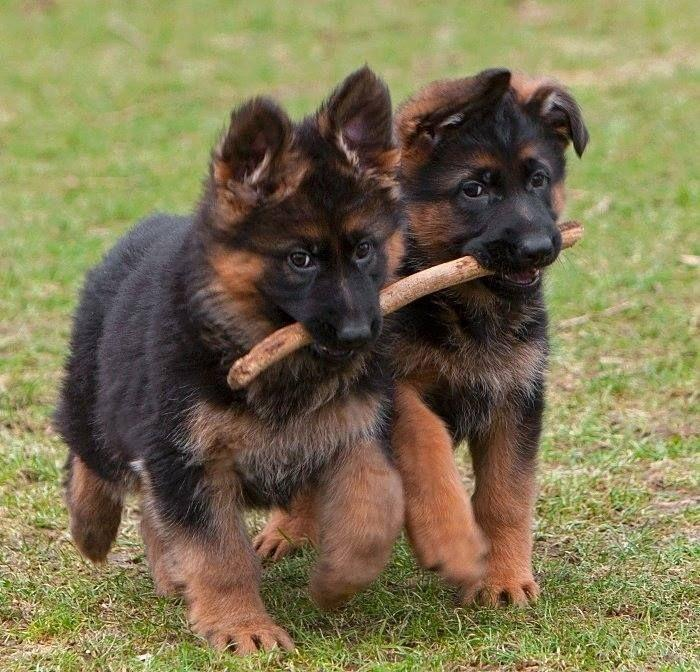puppy-dog: (53, 64, 486, 656), (256, 64, 593, 612)
